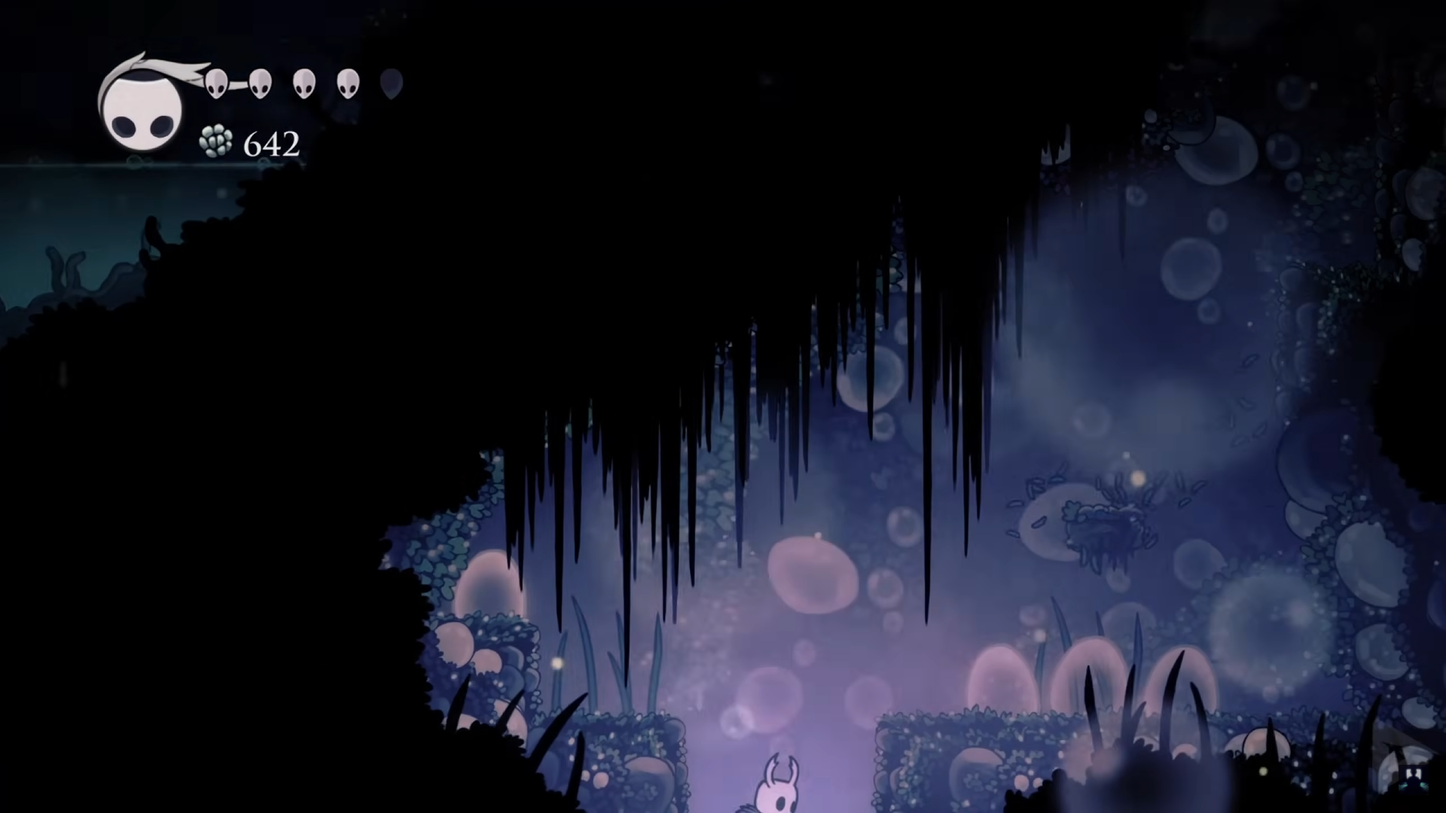HK: (740, 749, 803, 812)
